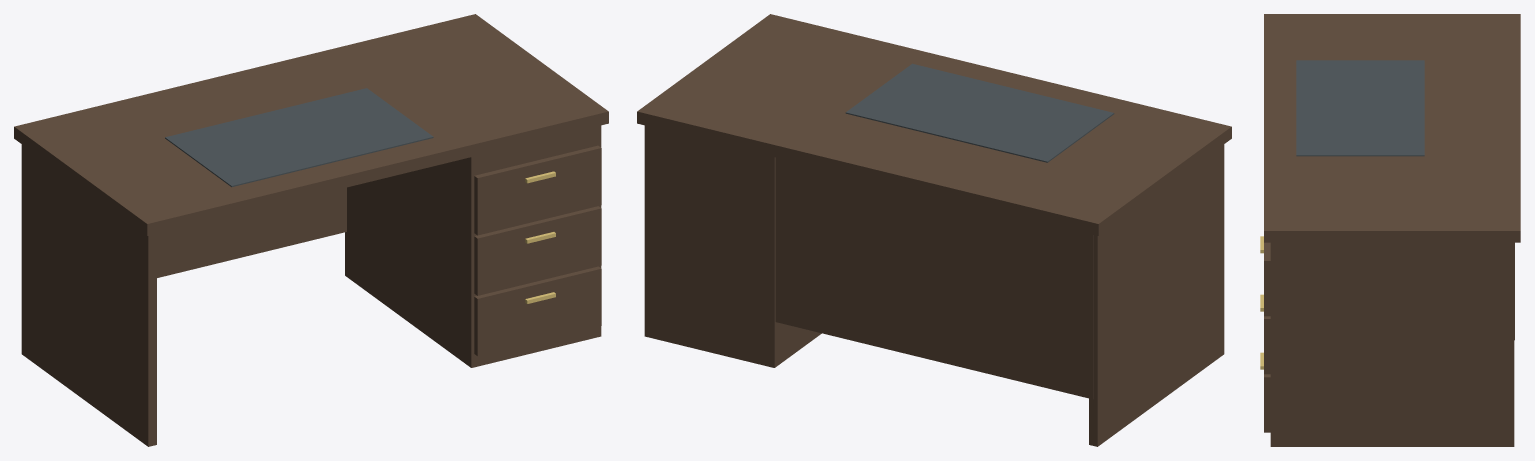
File: doctor_desk.fbx
The picture shows the model from 3 angles, left to right: view 1: azimuth 30°, elevation 25°; view 2: azimuth 150°, elevation 25°; view 3: azimuth 270°, elevation 25°; orthographic projection. The views are drawn at different scales.
Parts seen in each view (by area): view 1: doctor_desk; view 2: doctor_desk; view 3: doctor_desk.
Boxes of the visible parts, x1=… form: doctor_desk: x1=14, y1=14, x2=608, y2=446; doctor_desk: x1=637, y1=14, x2=1231, y2=446; doctor_desk: x1=1260, y1=14, x2=1520, y2=446.
Size of the model in its own units: 160 by 75.4 by 81.2.
